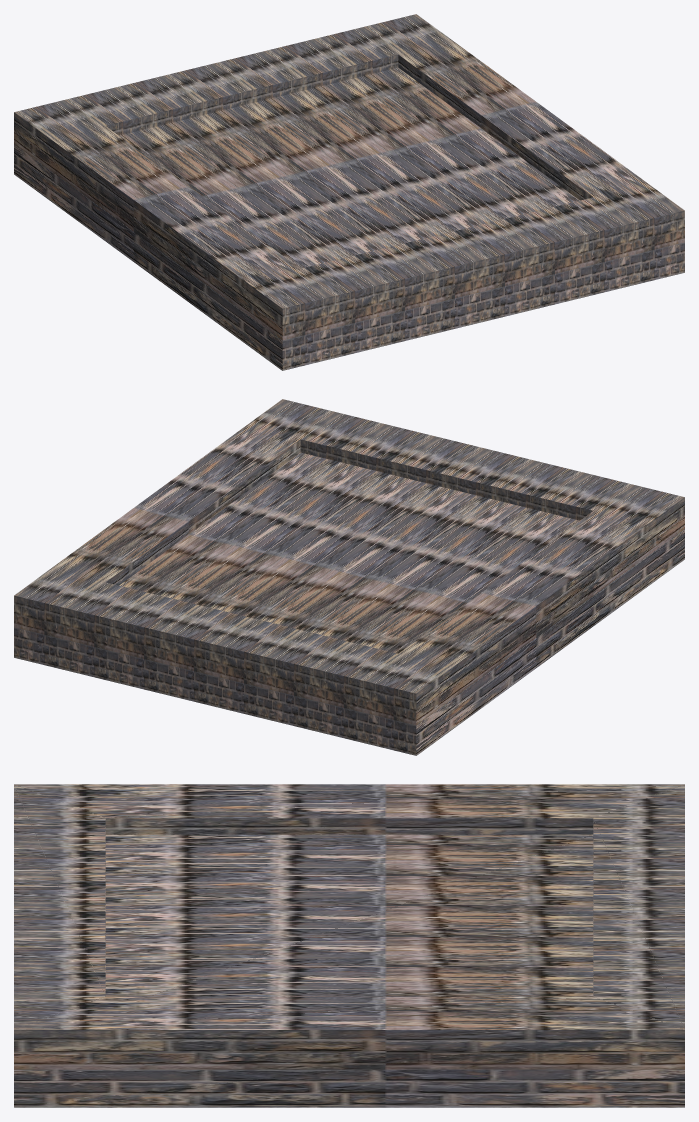
The model's file is wall.obj.
3 renders of one model, top to bottom at view 1: azimuth 30°, elevation 25°; view 2: azimuth 150°, elevation 25°; view 3: azimuth 270°, elevation 25°, orthographic. The views are drawn at different scales.
Parts seen in each view (by area): view 1: Cube_Cube.001; view 2: Cube_Cube.001; view 3: Cube_Cube.001.
Boxes of the visible parts, box(x1,y1,x2,y2) form: Cube_Cube.001: box(14, 14, 684, 370); Cube_Cube.001: box(14, 399, 684, 755); Cube_Cube.001: box(14, 784, 684, 1107).
Size of the model in its own units: 6.1 by 0.9 by 7.04.
Materials: 1 (1 with a texture image).
